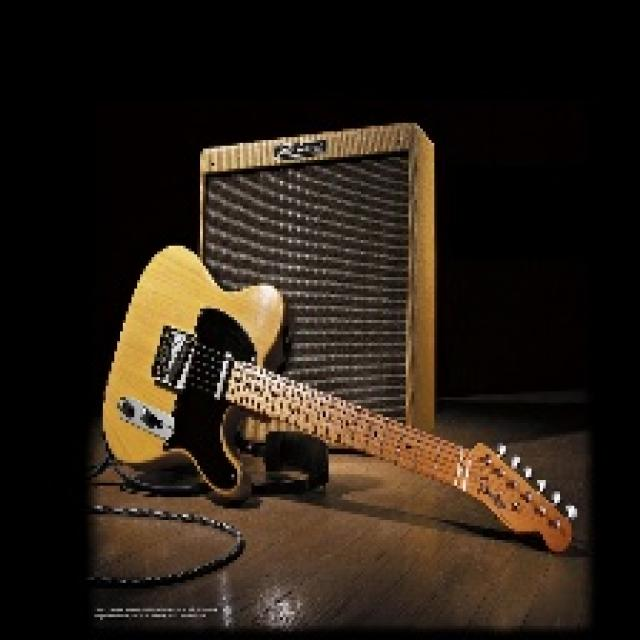guitar: (100, 241, 582, 556)
